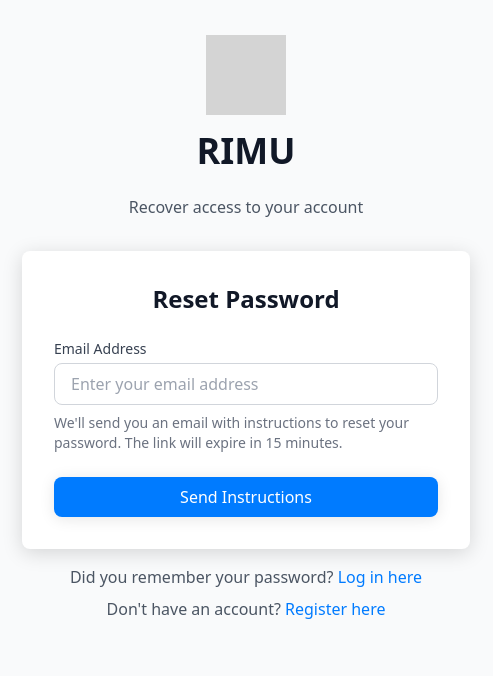
Test case: ForgotPassword Page › shows success message on password reset request
# Ingresar email
Type "test@example.com" into the field labelled "Email Address".
click(246, 384); type("test@example.com")  # box [54,363,438,405]
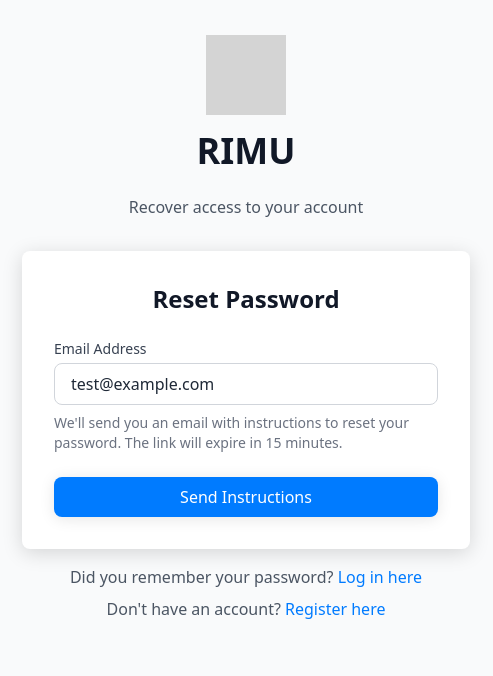
Click the button "Send Instructions".
click(246, 497)  # box [54,477,438,517]
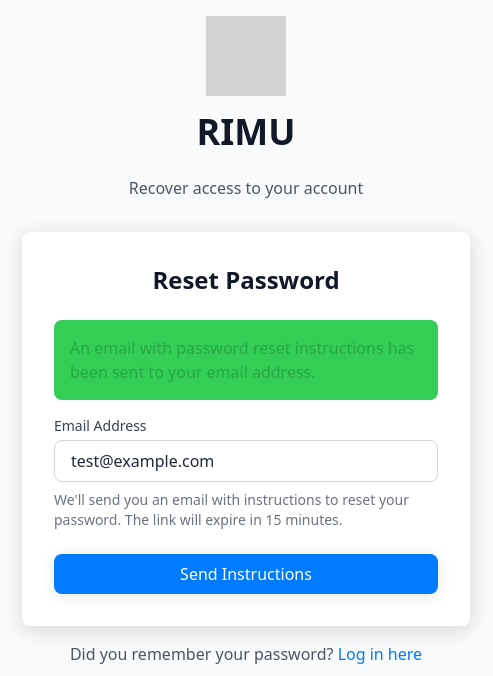
Expected: the text "reset instructions has been sent" is shown, [70,337,414,383]
